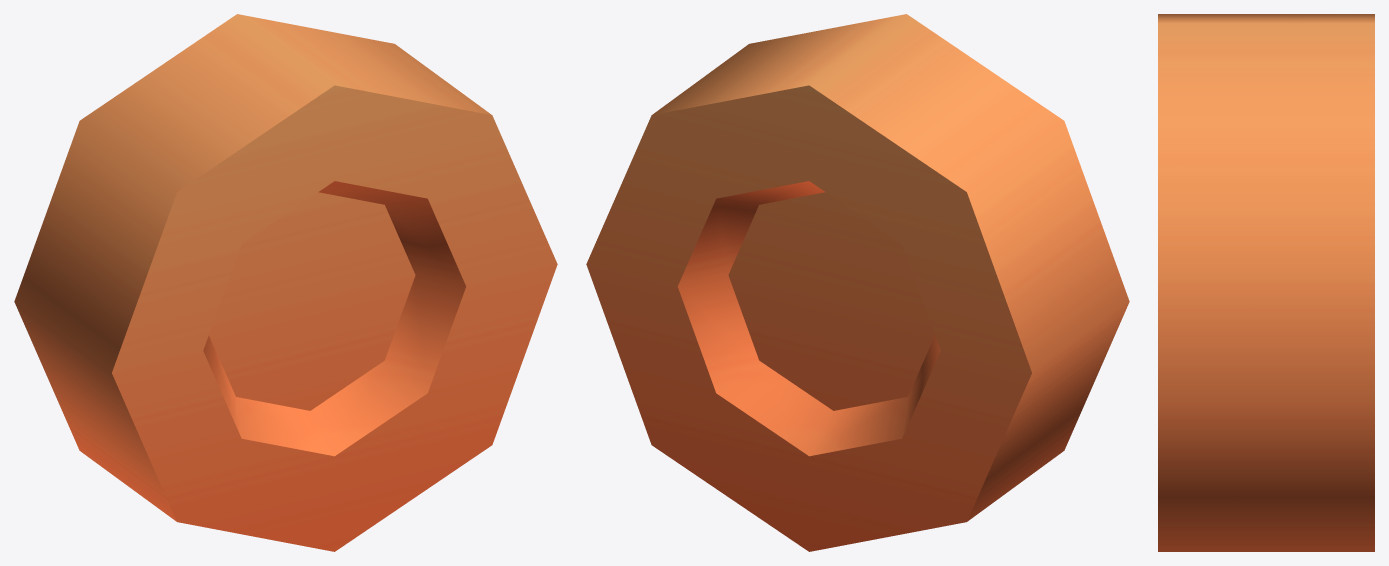
File: item-coin-gold.fbx
3 views of the same model, side by side, from view 1: azimuth 30°, elevation 25°; view 2: azimuth 150°, elevation 25°; view 3: azimuth 270°, elevation 25° (orthographic). The views are drawn at different scales.
Visible parts, largest first — view 1: item-coin-gold; view 2: item-coin-gold; view 3: item-coin-gold.
Boxes of the visible parts, bbox=[...] form: item-coin-gold: bbox=[14, 14, 557, 551]; item-coin-gold: bbox=[586, 14, 1129, 551]; item-coin-gold: bbox=[1158, 14, 1374, 551].
Bounding box in the file's own units: 26.4 × 26.4 × 10.
